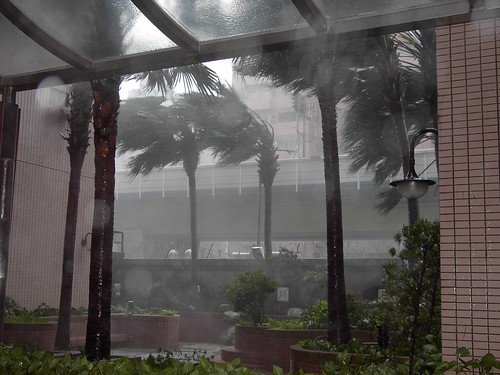tree: (271, 33, 376, 344), (42, 64, 147, 345), (366, 58, 436, 313), (116, 96, 203, 269), (200, 93, 281, 267)
